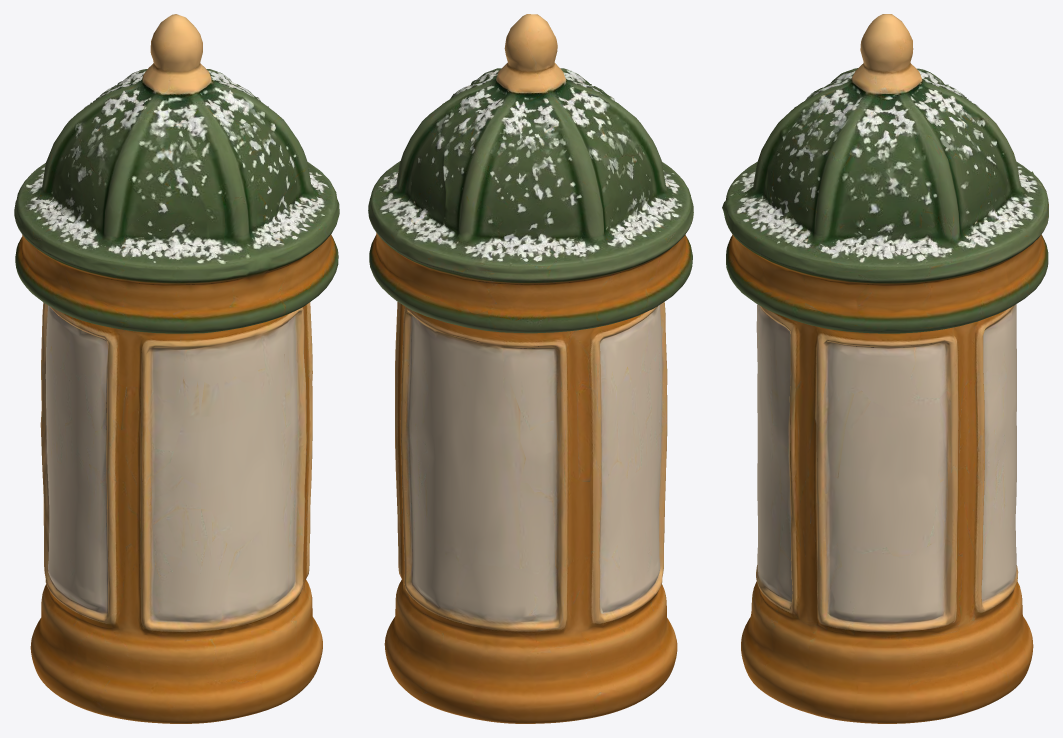
Rendered from kiosk.glb.
The picture shows the model from 3 angles, left to right: view 1: azimuth 30°, elevation 25°; view 2: azimuth 150°, elevation 25°; view 3: azimuth 270°, elevation 25°; orthographic projection.
Size of the model in its own units: 0.9083 by 2 by 0.9095.
Materials: 1 (1 with a texture image).
